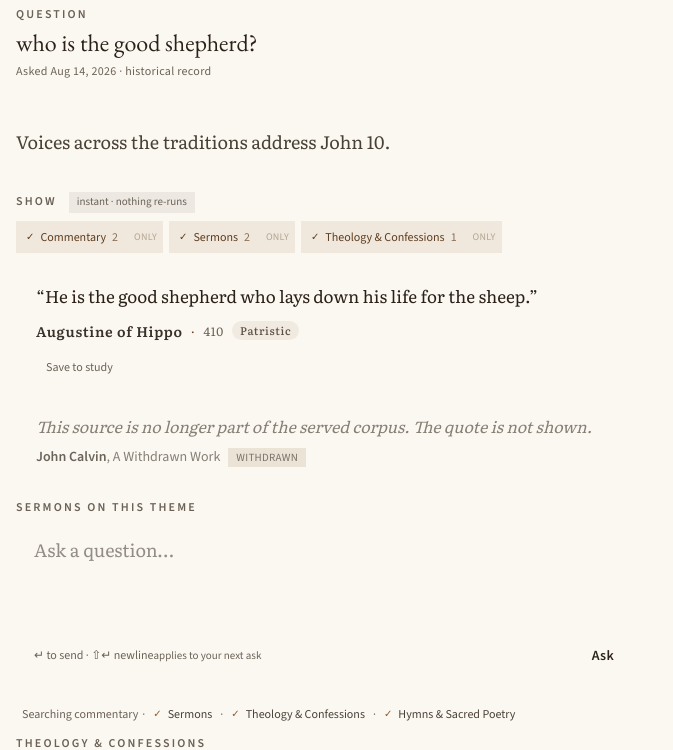
Test: §4.7 Show filter + stored-thread rendering (variant A) › "only" isolates; "Show all" appears ONLY while something is hidden (I2-L2) and restores
The width and height of the screenshot is (673, 750).
Expected: the text "Show all" is not shown
Click the 2nd button titled "Show only Sermons". click: click(278, 237)
box: x1=260 y1=221 x2=295 y2=253
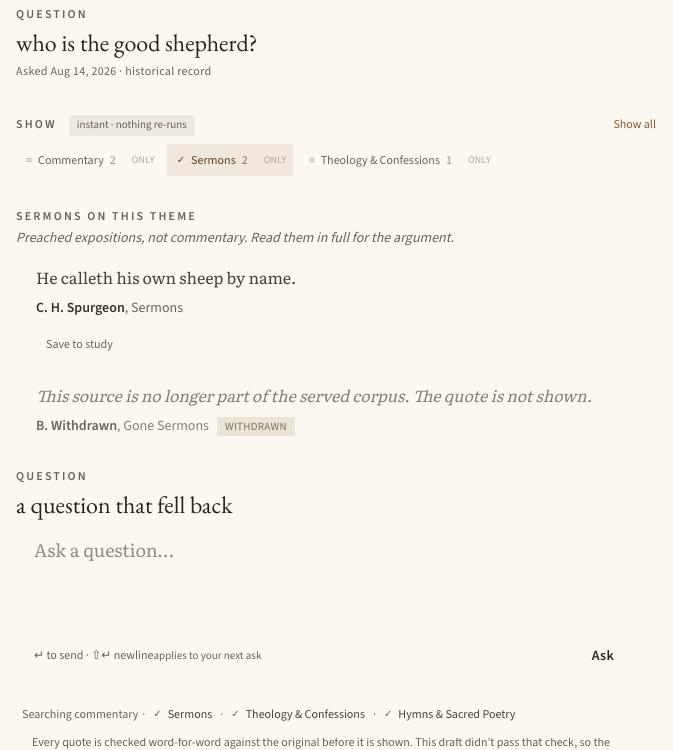
Expected: the text "He calleth his own sheep by name." is shown, x1=36 y1=264 x2=296 y2=288
Result: the link "lays down his life" is gone
Click the button "Show all". click: click(635, 124)
box: x1=613 y1=116 x2=656 y2=132
(page scrolled)
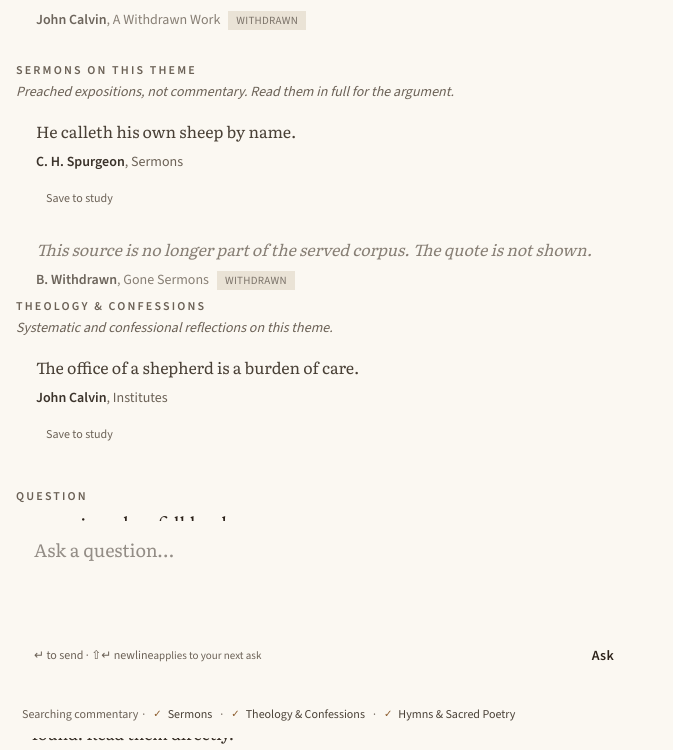
Result: the text "The office of a shepherd is a burden of care." is shown at x1=36 y1=354 x2=359 y2=378
Result: the button "Show all" is gone
